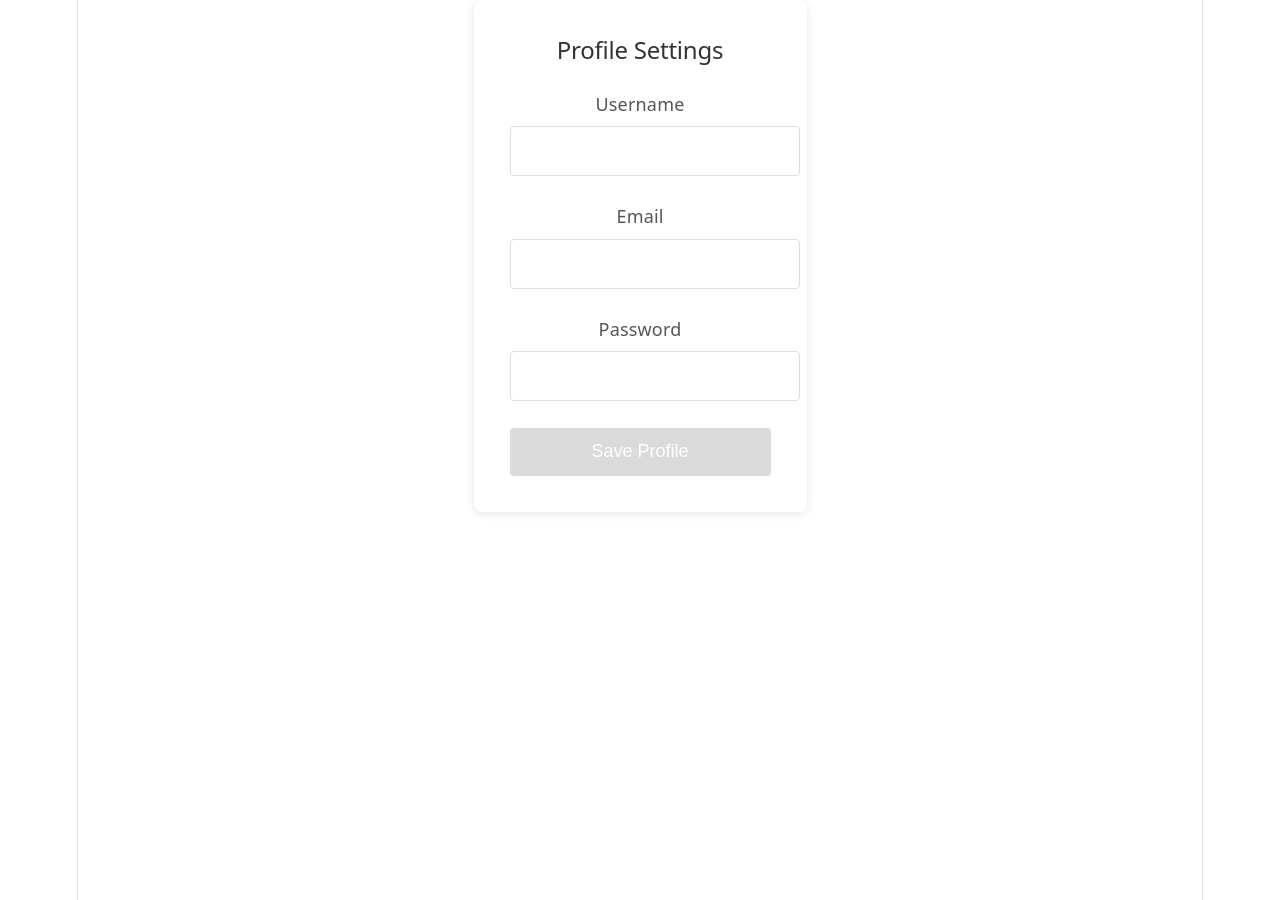
Test case: ProfileSettingsForm — validation (invalid) › blocks submission and shows validation messages for invalid input
Expected: the button "Save Profile" is disabled, [510, 428, 770, 476]
# Username too short.
Type "ab" into the field labelled "Username".
click(654, 151); type("ab")  # box [510, 126, 800, 176]
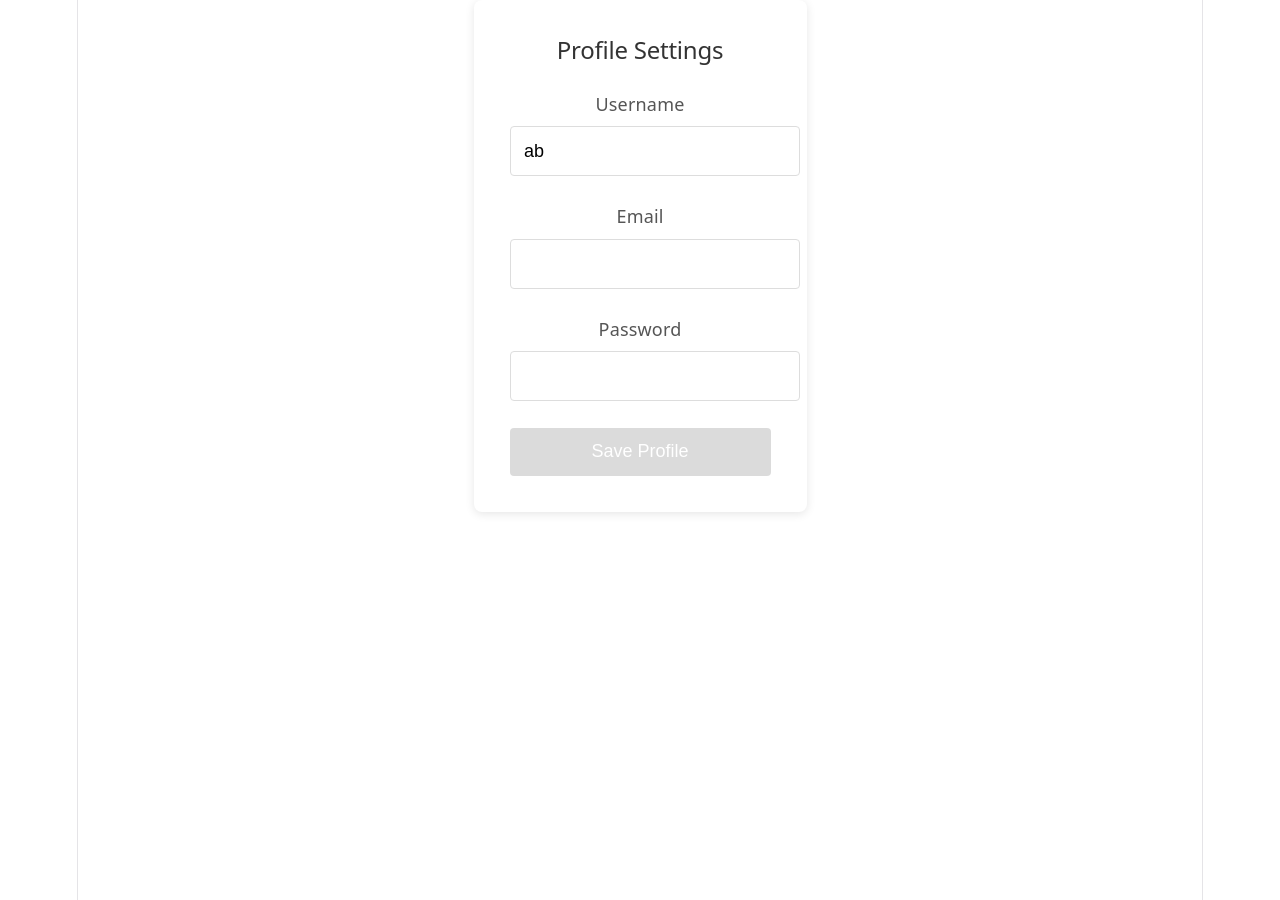
Leave the field labelled "Username", box [510, 126, 800, 176]
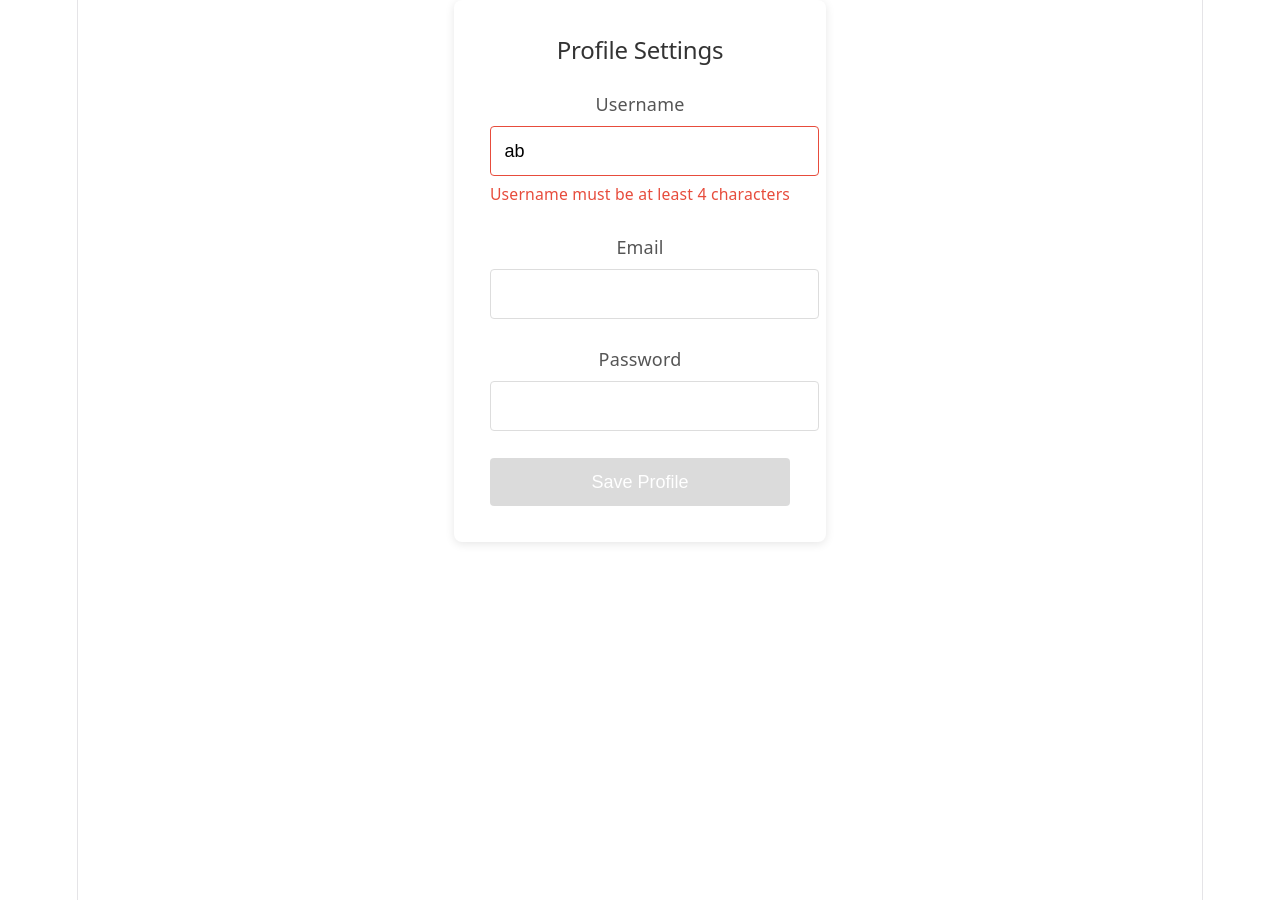
Expected: the text "Username must be at least 4 characters" is shown, [490, 181, 790, 207]
# Email invalid.
Type "not-an-email" into the field labelled "Email".
click(654, 294); type("not-an-email")  # box [490, 269, 819, 319]
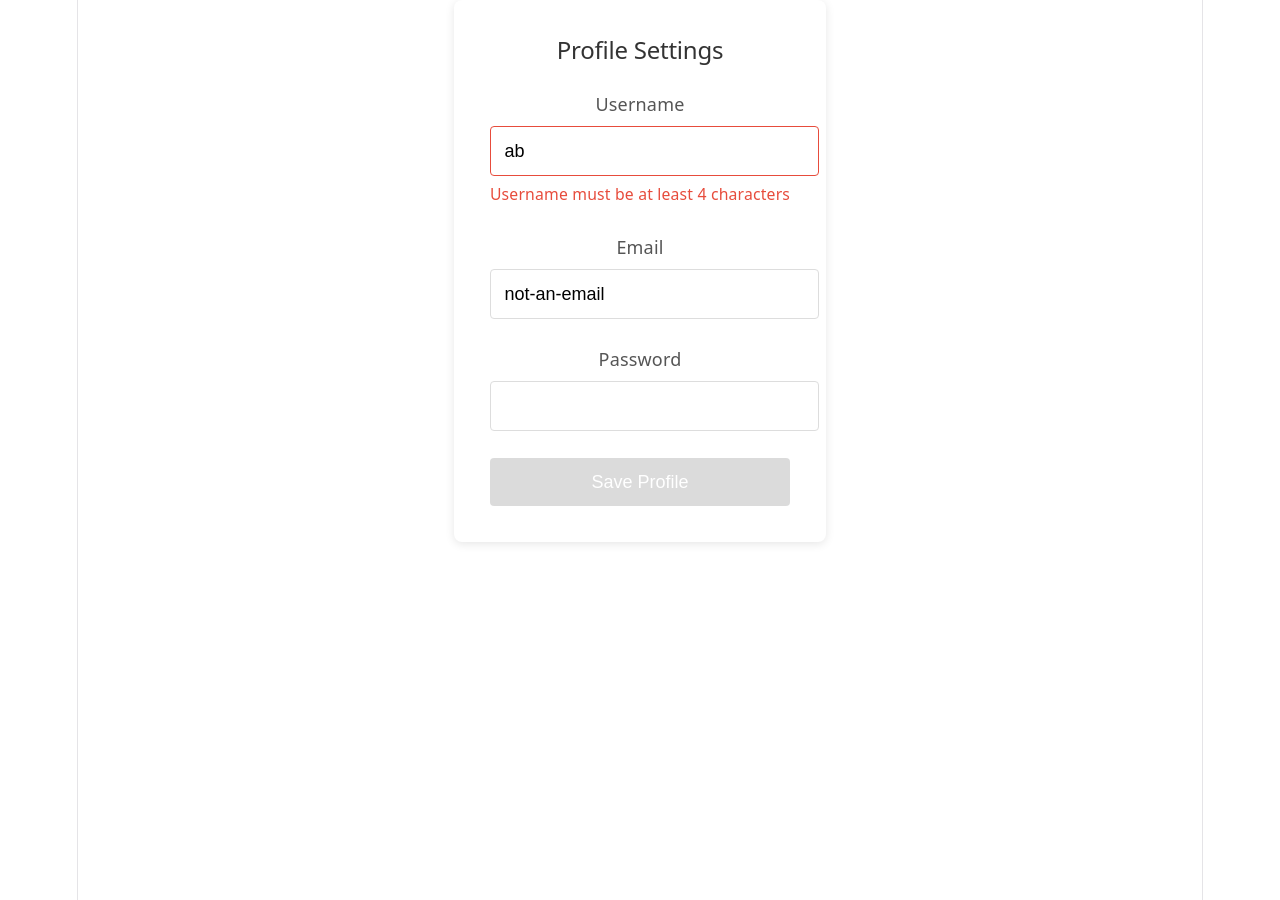
Leave the field labelled "Email", box [490, 269, 819, 319]
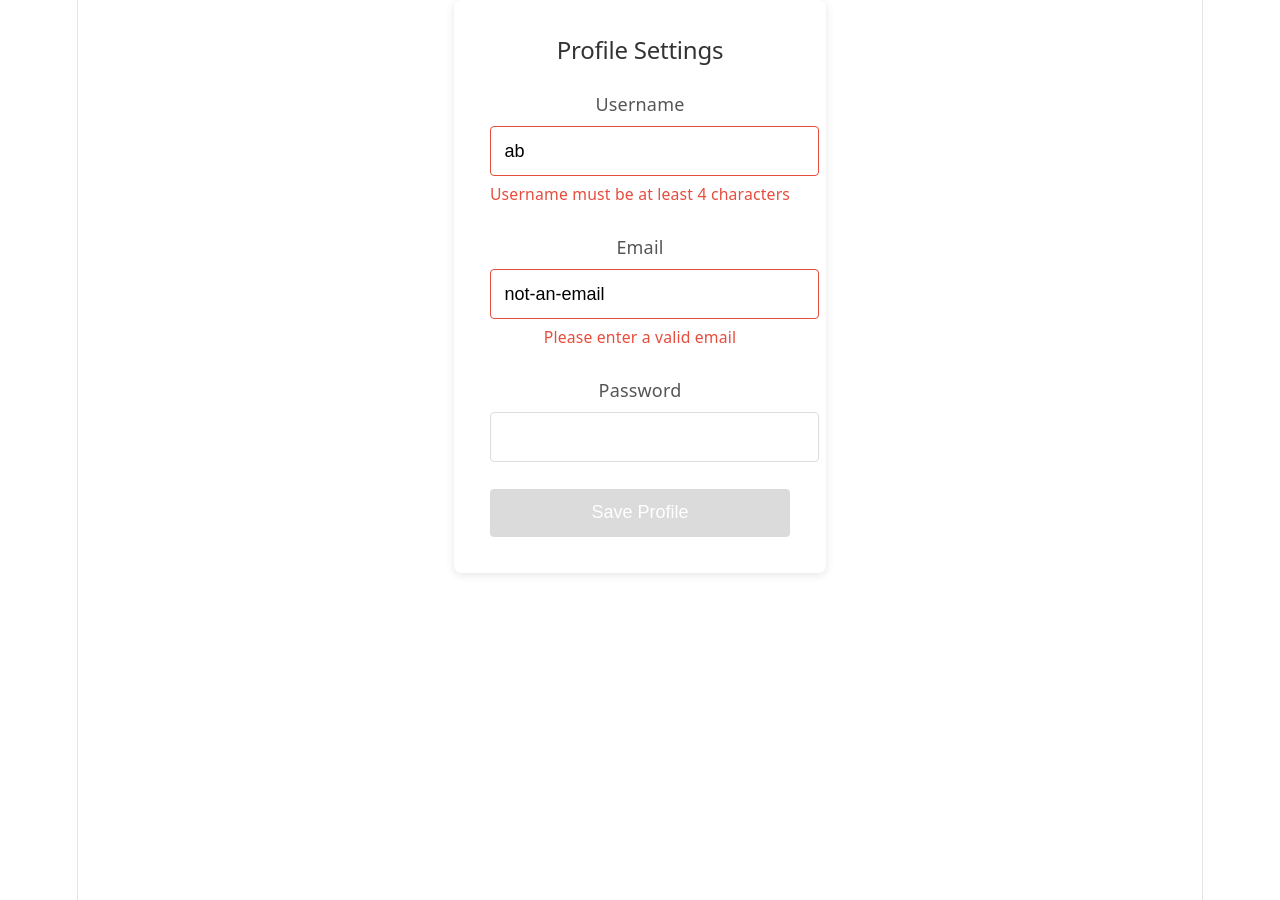
Expected: the text "Please enter a valid email" is shown, [544, 326, 736, 348]
# Password too short.
Type "short" into the password field labelled "Password".
click(654, 437); type("short")  # box [490, 412, 819, 462]
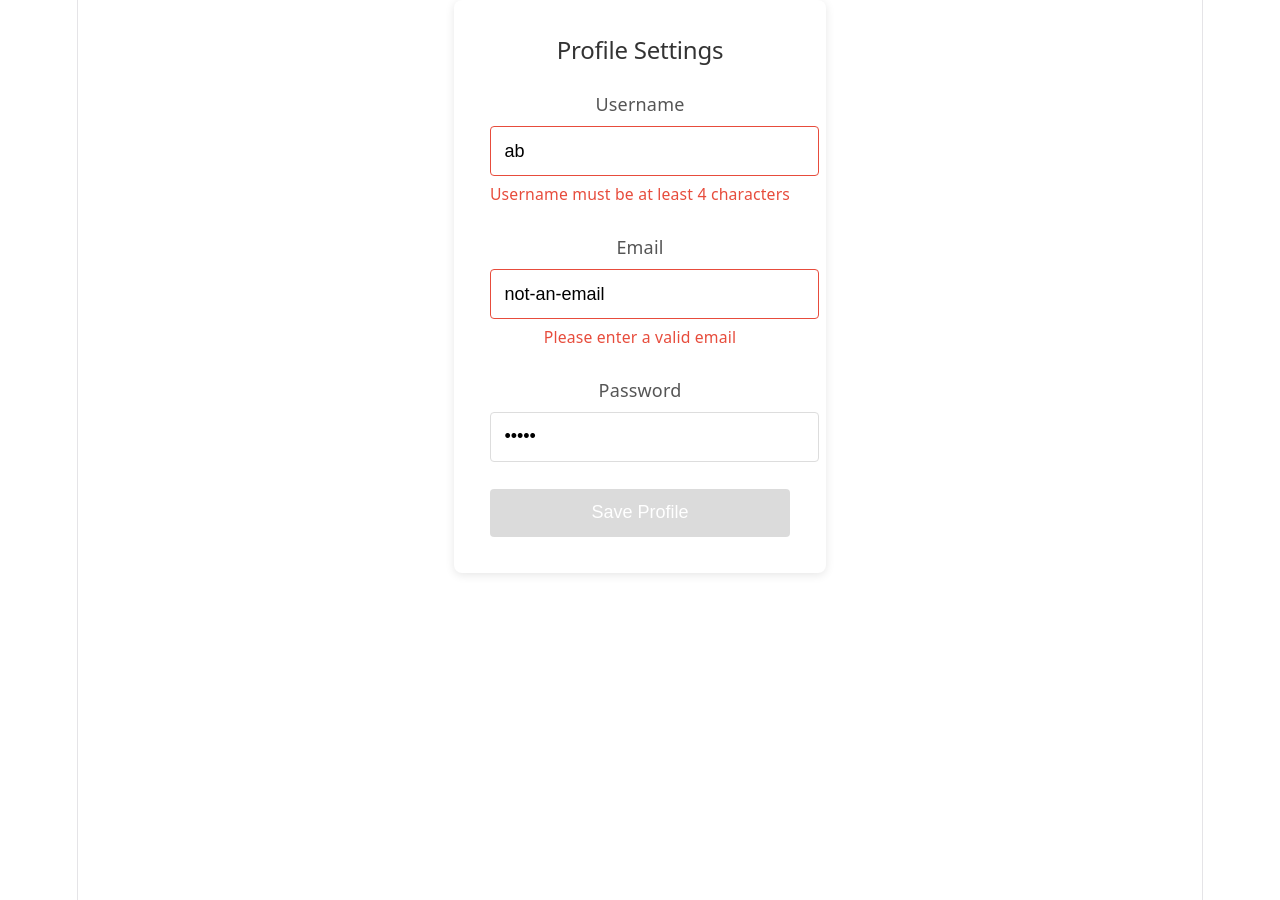
Leave the password field labelled "Password", box [490, 412, 819, 462]
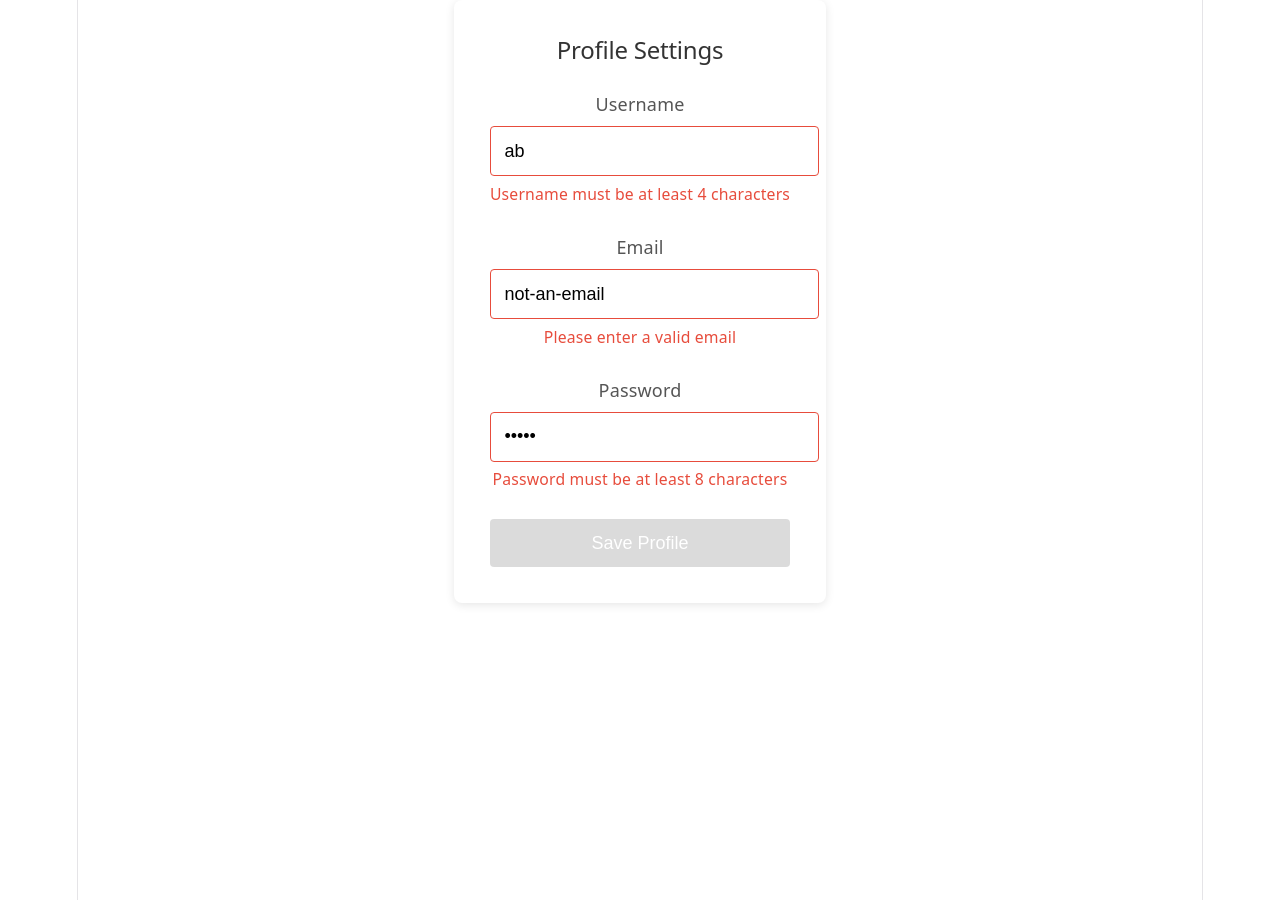
Expected: the button "Save Profile" is disabled, [490, 519, 790, 567]
Expected: the text "Password must be at least 8 characters" is shown, [490, 466, 790, 492]
